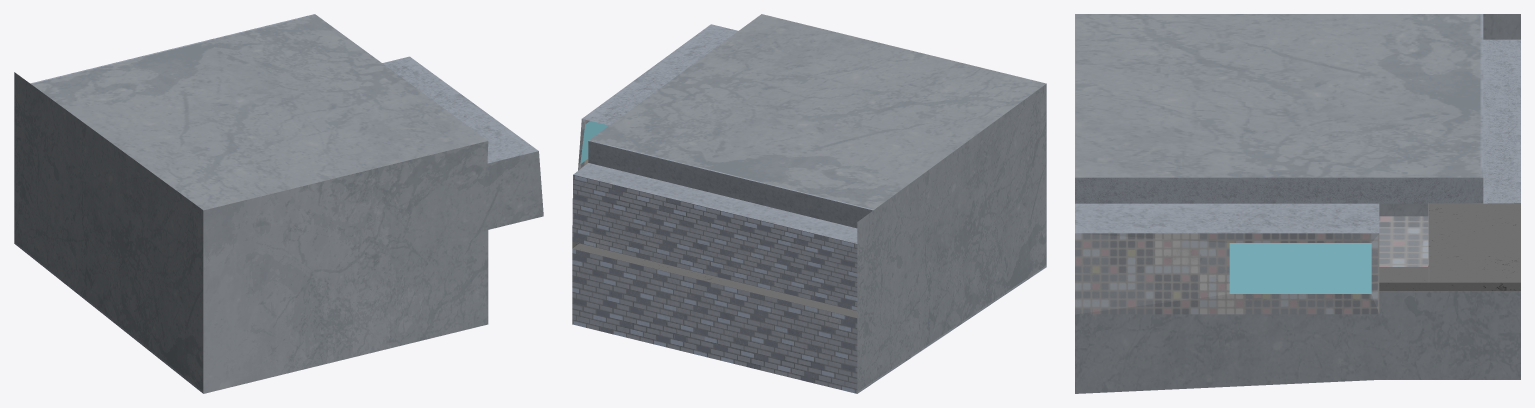
Rendered from Room.fbx.
The picture shows the model from 3 angles, left to right: view 1: azimuth 30°, elevation 25°; view 2: azimuth 150°, elevation 25°; view 3: azimuth 270°, elevation 25°; orthographic projection. The views are drawn at different scales.
Parts seen in each view (by area): view 1: Room; view 2: Room; view 3: Room.
Part boxes in pixels (left/top/right/bottom): Room: left=14, top=14, right=543, bottom=393; Room: left=572, top=14, right=1046, bottom=393; Room: left=1075, top=14, right=1520, bottom=393.
Bounding box in the file's own units: 1074 × 554 × 1035.
1 material, 1 textured.
